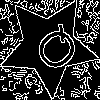Q: (24, 21, 85, 82)
